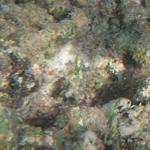dead: (6, 4, 145, 146)
